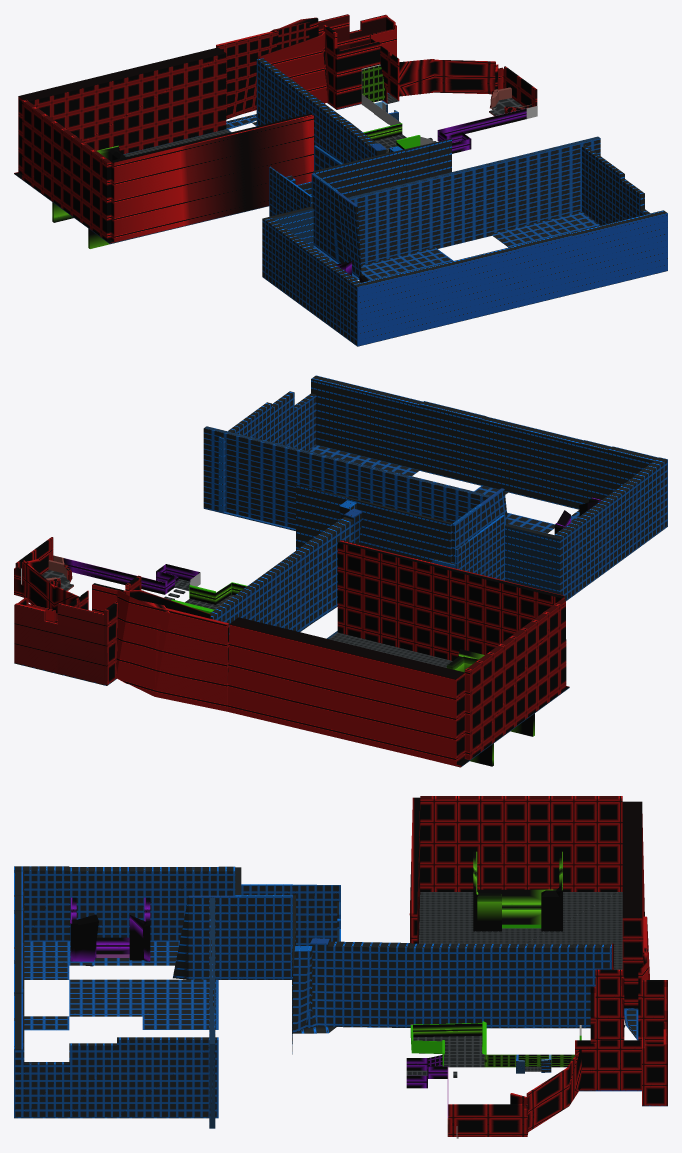
File: finalfinalmap2024unity.fbx
3 renders of one model, top to bottom at view 1: azimuth 30°, elevation 25°; view 2: azimuth 150°, elevation 25°; view 3: azimuth 270°, elevation 25°, orthographic. The views are drawn at different scales.
Visible parts, largest first — view 1: pCube18, pCube19, pCube20, pCube10, pCube6, pCube22; view 2: pCube19, pCube18, pCube20, pCube10, pCube6, pCube21; view 3: pCube18, pCube19, pCube10, pCube6, pCube25, pCube20, pCube16, pCube23, pCube21, pCube24, pCube22, pCube26.
Boxes of the visible parts, <box> form: pCube18: <box>14,58,667,346</box>; pCube19: <box>14,14,399,243</box>; pCube20: <box>347,136,600,265</box>; pCube10: <box>361,59,537,135</box>; pCube6: <box>362,94,434,149</box>; pCube22: <box>52,145,125,222</box>; pCube19: <box>14,540,569,767</box>; pCube18: <box>14,375,667,767</box>; pCube20: <box>203,426,490,530</box>; pCube10: <box>14,537,164,613</box>; pCube6: <box>171,572,246,613</box>; pCube21: <box>446,649,534,736</box>; pCube18: <box>14,866,667,1118</box>; pCube19: <box>409,796,667,1105</box>; pCube10: <box>447,1025,581,1138</box>; pCube6: <box>406,1021,574,1073</box>; pCube25: <box>477,889,556,928</box>; pCube20: <box>209,897,215,1128</box>; pCube16: <box>413,1035,484,1067</box>; pCube23: <box>70,897,98,966</box>; pCube21: <box>473,851,501,931</box>; pCube24: <box>129,897,150,961</box>; pCube22: <box>541,851,562,931</box>; pCube26: <box>96,937,129,957</box>.
Size of the model in its own units: 33370 by 7741 by 35776.
Materials: 12 (6 with a texture image).
